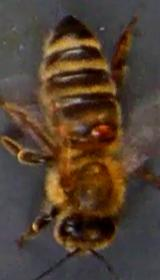varroa_mite: (84, 120, 116, 145)
